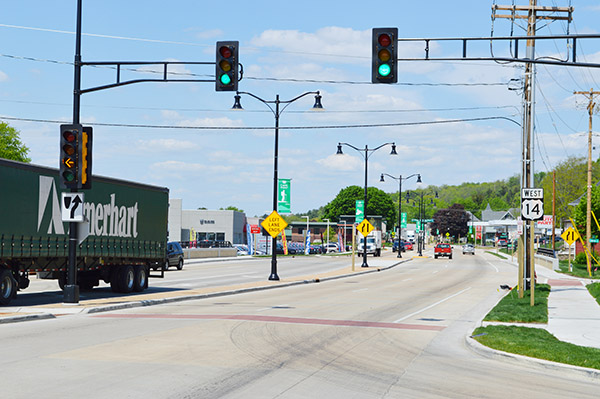greenlight: (209, 71, 237, 89), (374, 58, 395, 79)
